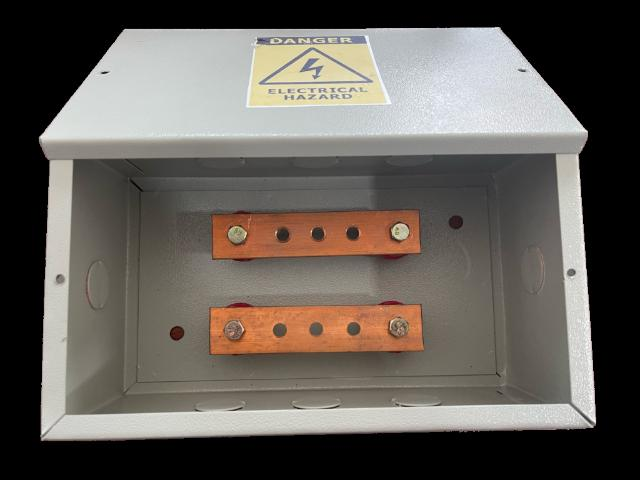busbar: (174, 193, 452, 369)
